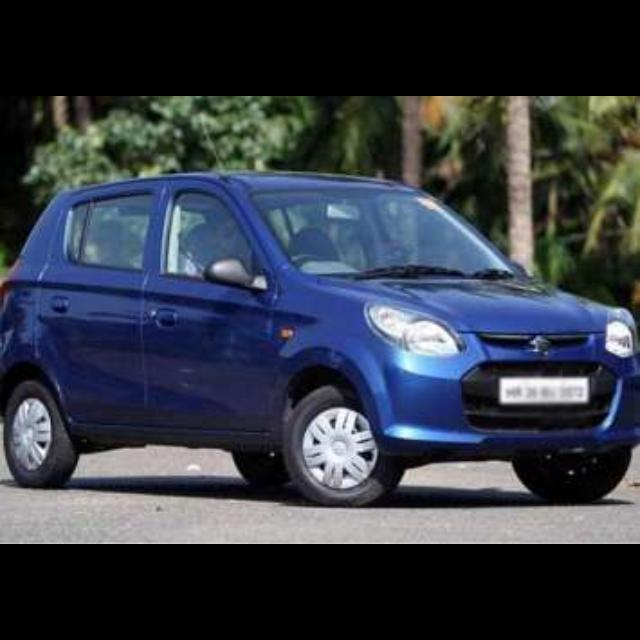vehicles: (4, 168, 632, 504)
